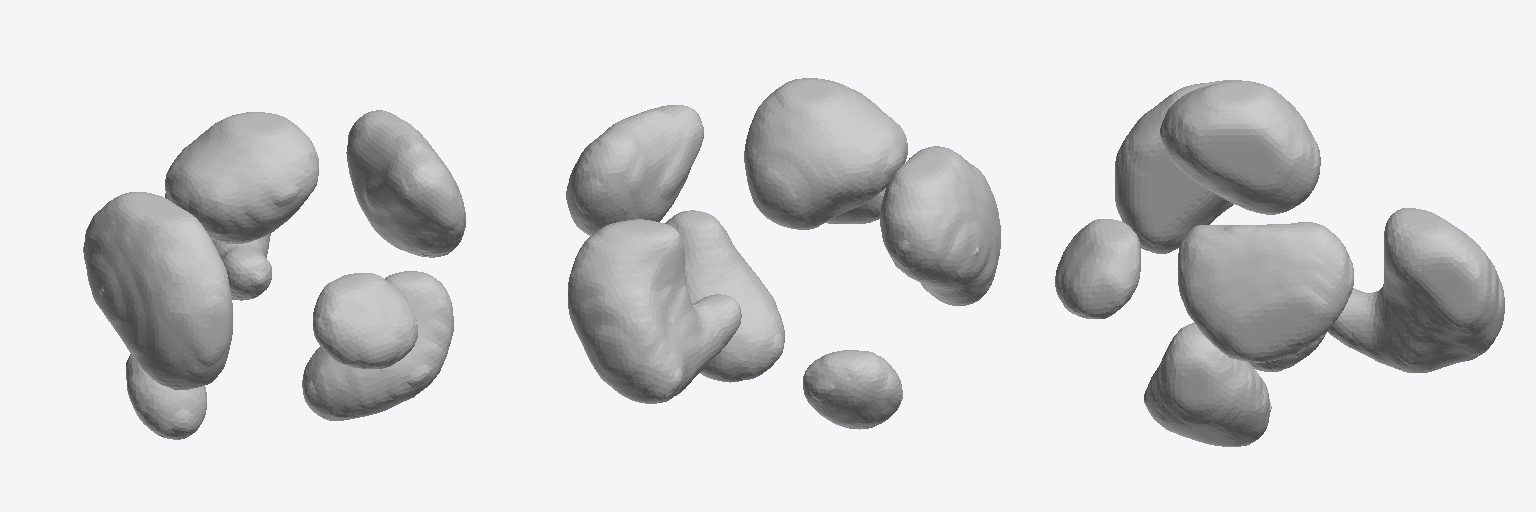
File: iso-crop-mosaic_7.obj
The picture shows the model from 3 angles: view 1: azimuth 30°, elevation 25°; view 2: azimuth 150°, elevation 25°; view 3: azimuth 270°, elevation 25°; orthographic projection.
Parts seen in each view (by area): view 1: 5, 6, 4, 3, 2, 1, 7; view 2: 7, 6, 5, 4, 3, 1, 2; view 3: 4, 7, 6, 3, 5, 2, 1.
Part boxes in pixels (left/top/right/bottom): 5: left=83, top=192, right=232, bottom=389; 6: left=165, top=112, right=318, bottom=243; 4: left=346, top=110, right=465, bottom=257; 3: left=302, top=271, right=453, bottom=420; 2: left=313, top=273, right=417, bottom=368; 1: left=126, top=354, right=206, bottom=439; 7: left=165, top=193, right=271, bottom=300; 7: left=568, top=219, right=741, bottom=403; 6: left=744, top=78, right=907, bottom=229; 5: left=880, top=146, right=1000, bottom=305; 4: left=566, top=105, right=703, bottom=235; 3: left=665, top=210, right=784, bottom=382; 1: left=803, top=350, right=902, bottom=429; 2: left=825, top=188, right=885, bottom=223; 4: left=1178, top=222, right=1353, bottom=362; 7: left=1327, top=208, right=1504, bottom=372; 6: left=1160, top=80, right=1320, bottom=214; 3: left=1144, top=323, right=1271, bottom=446; 5: left=1115, top=80, right=1233, bottom=253; 2: left=1055, top=219, right=1140, bottom=318; 1: left=1249, top=332, right=1326, bottom=371.
Size of the model in its own units: 60.2 by 48.56 by 63.96.